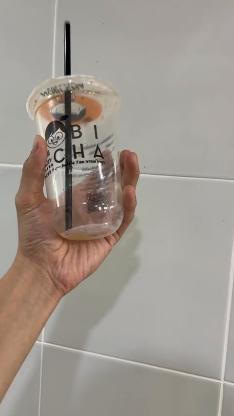Plastic Cup: (27, 73, 124, 241)
